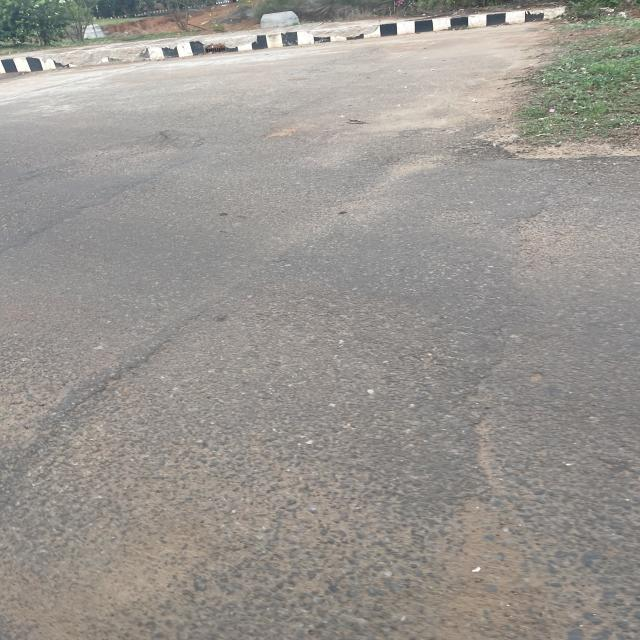D11: (33, 237, 279, 506)
